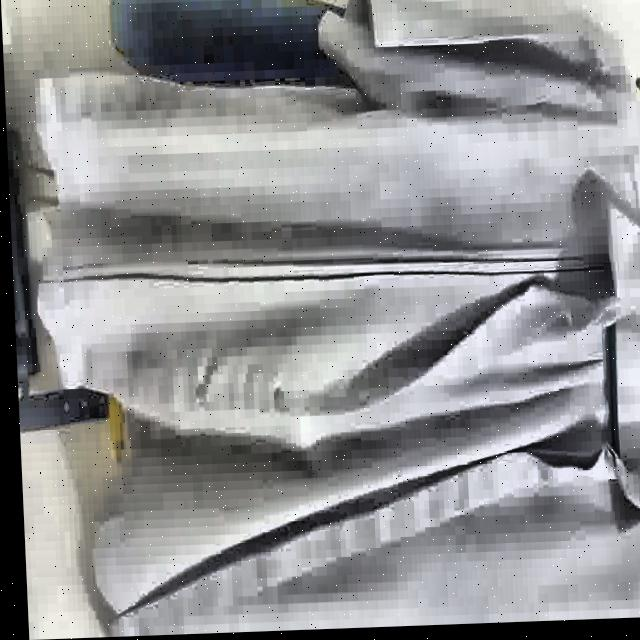clothes: (29, 0, 640, 639)
